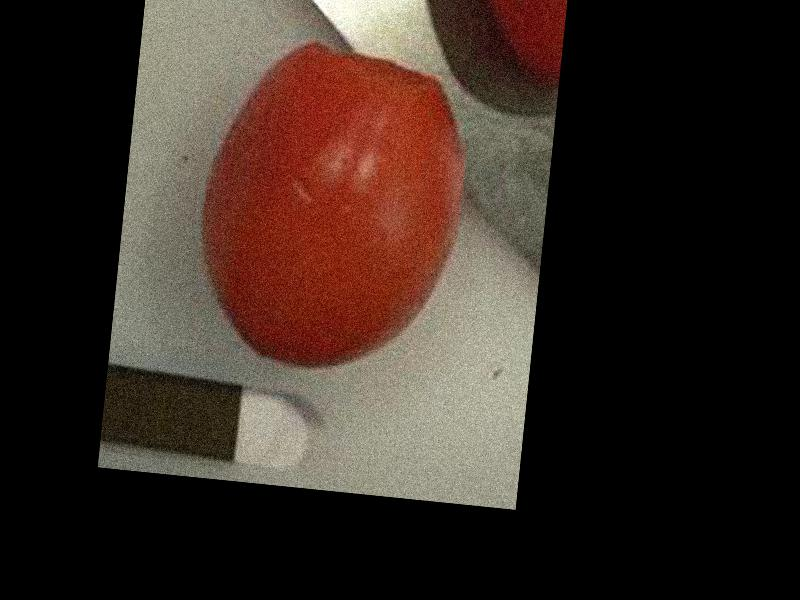Tomato: (188, 34, 478, 382)
